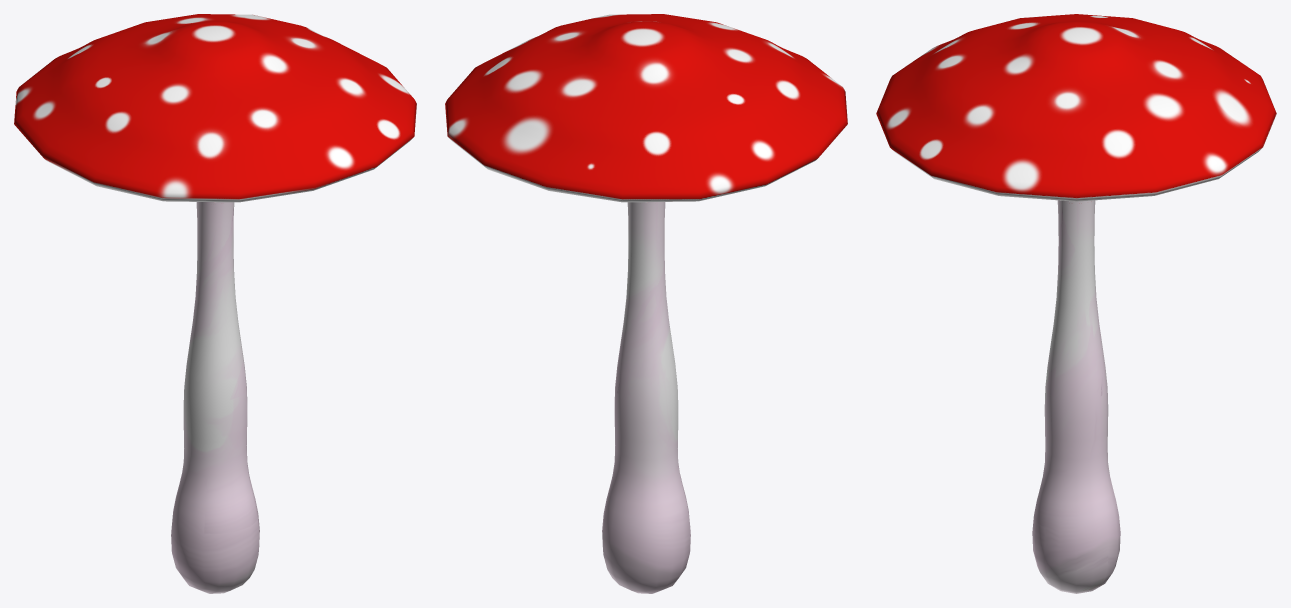
The model's file is mushroom_red_v2-1.fbx.
3 renders of one model, left to right at view 1: azimuth 30°, elevation 25°; view 2: azimuth 150°, elevation 25°; view 3: azimuth 270°, elevation 25°, orthographic.
Visible parts, largest first — view 1: Cube; view 2: Cube; view 3: Cube.
Part boxes in pixels (<box>): Cube: <box>14,14,416,593</box>; Cube: <box>445,14,847,593</box>; Cube: <box>876,14,1276,593</box>.
Bounding box in the file's own units: 376 × 574 × 376.
1 material, 1 textured.
